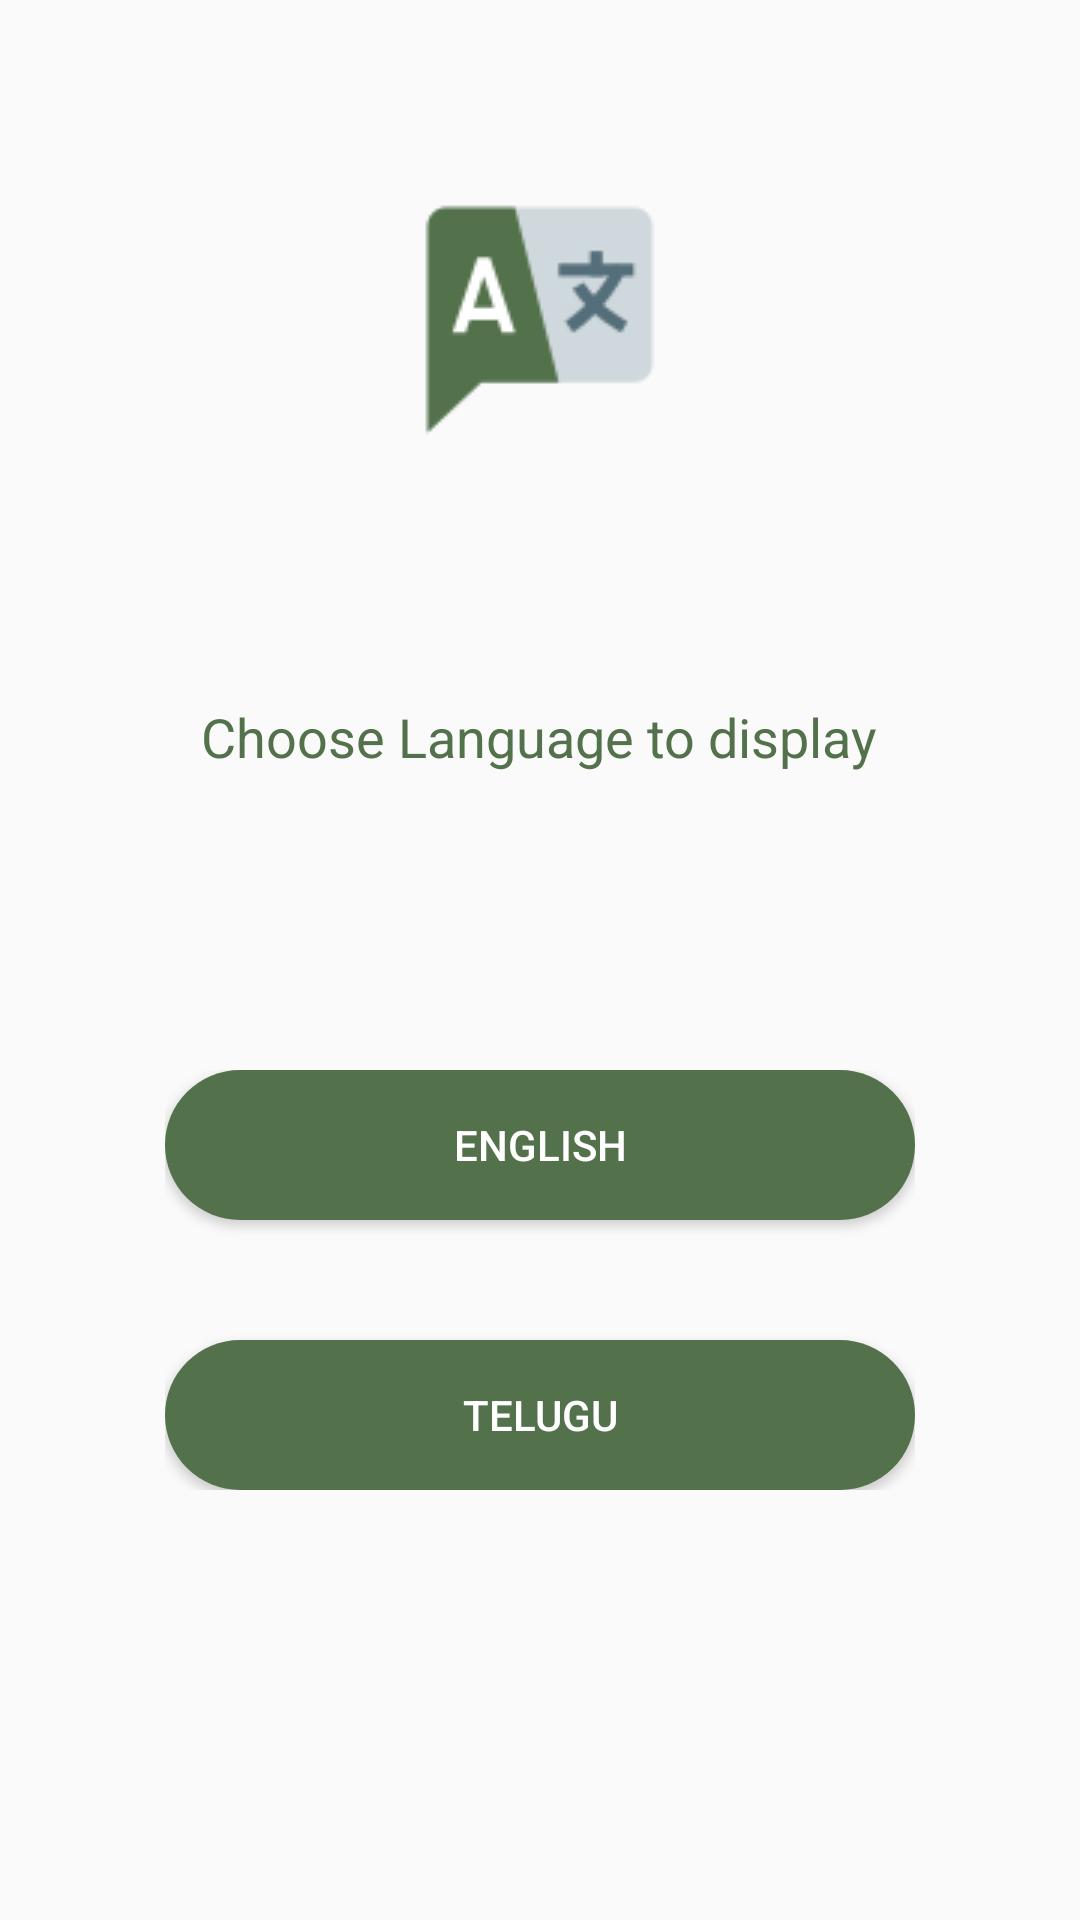

Screen size 1080w x 1920h. Icon name, then its box in pixels as (x1, y1, x2, y2):
iconlanguage: (425, 205, 652, 433)
